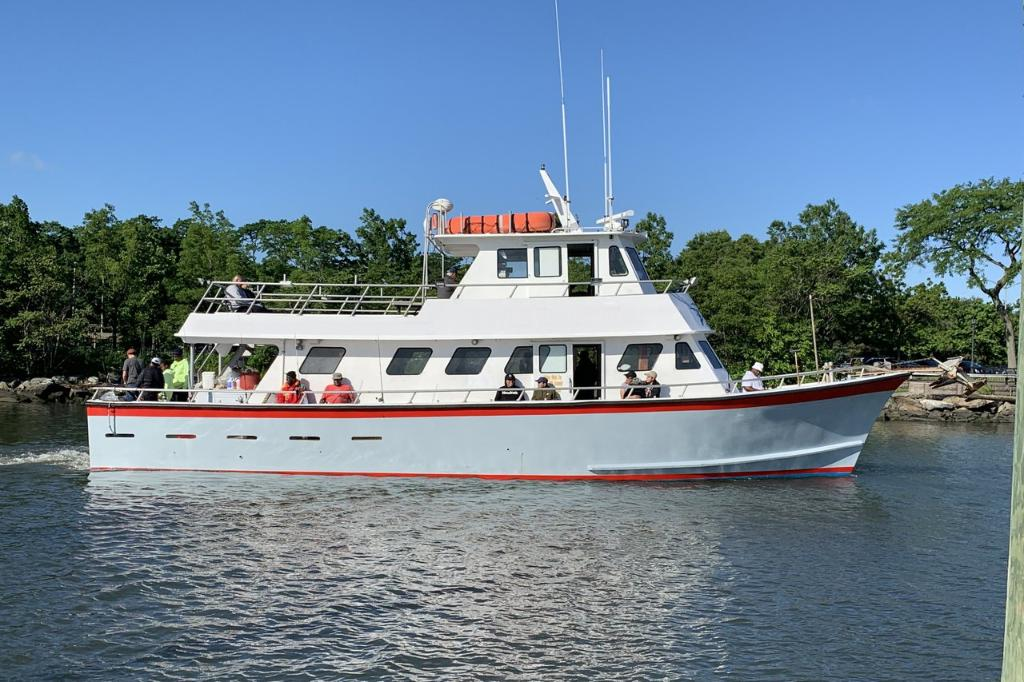PassengerShip: (78, 168, 936, 478)
